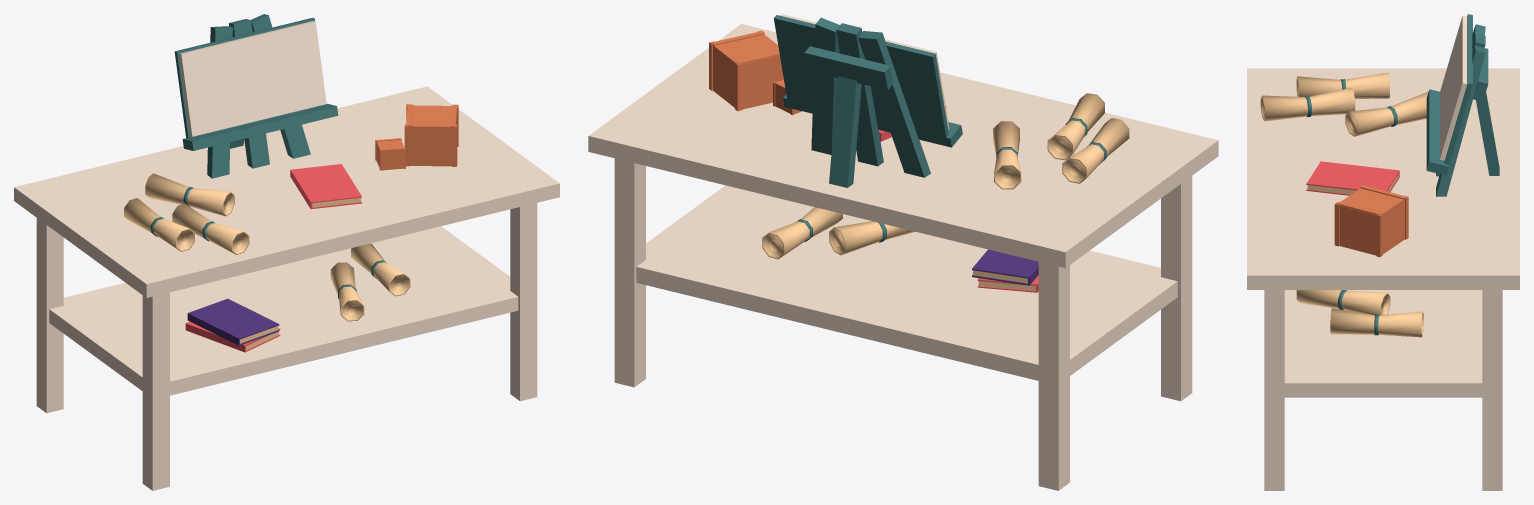
File: ResearchTable.fbx
3 renders of one model, left to right at view 1: azimuth 30°, elevation 25°; view 2: azimuth 150°, elevation 25°; view 3: azimuth 270°, elevation 25°, orthographic. The views are drawn at different scales.
Parts seen in each view (by area): view 1: ResearchTable_LOD0; view 2: ResearchTable_LOD0; view 3: ResearchTable_LOD0.
Part boxes in pixels (x1,y1,x2,y2): ResearchTable_LOD0: (14, 14, 559, 490); ResearchTable_LOD0: (588, 14, 1218, 490); ResearchTable_LOD0: (1247, 14, 1519, 490).
Size of what is drawn, in the model's own units: 1.8 by 1.44 by 1.
